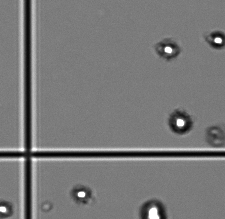Dead Cell: (207, 126, 223, 148)
Living Cell: (168, 108, 193, 135), (157, 39, 180, 60), (72, 184, 92, 203), (207, 29, 224, 49), (1, 198, 13, 217)
